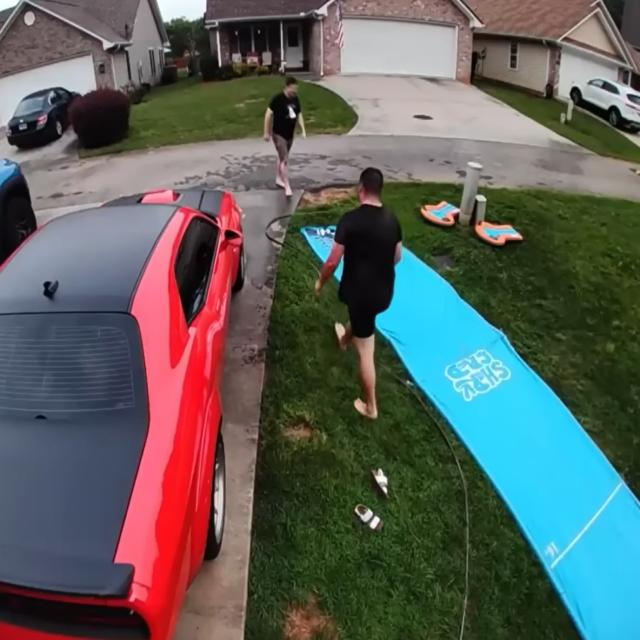fallen: (264, 77, 305, 196)
standing: (316, 167, 402, 418)
